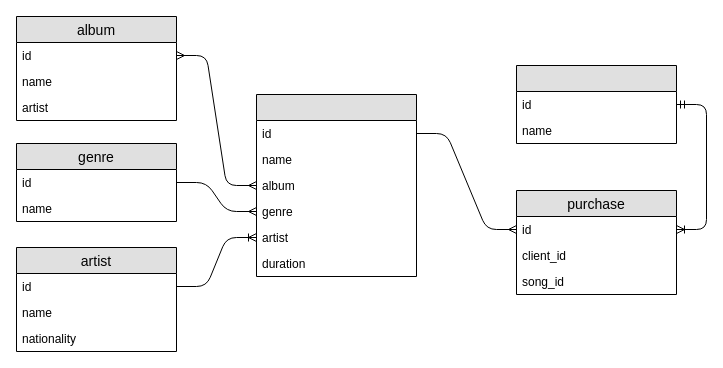
Image size: 723x368. Some labels were removed from this diagram. The box of each missing label's shape, as (x1, y1, x2, y2) in pixels:
client: (516, 64, 676, 144)
song: (256, 94, 416, 276)
